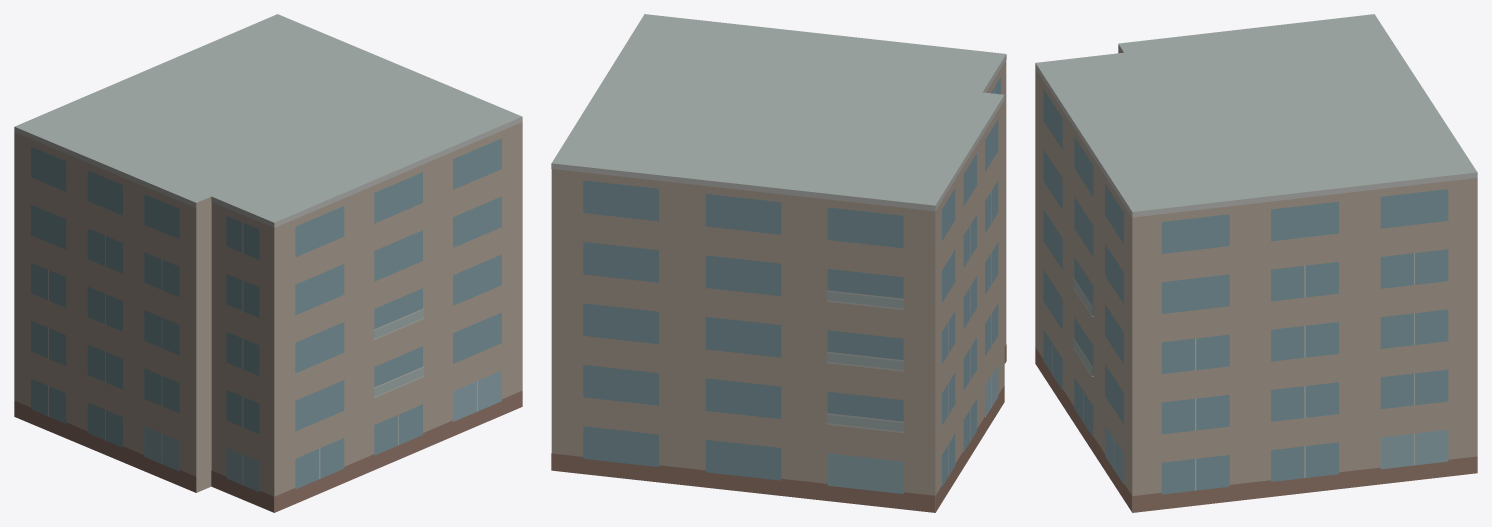
Rendered from survey-upis-32614941.glb.
3 renders of one model, left to right at view 1: azimuth 30°, elevation 25°; view 2: azimuth 150°, elevation 25°; view 3: azimuth 270°, elevation 25°, orthographic. The views are drawn at different scales.
Parts seen in each view (by area): view 1: survey-upis-32614941.tmp; view 2: survey-upis-32614941.tmp; view 3: survey-upis-32614941.tmp.
Part boxes in pixels (x1,y1,x2,y2): survey-upis-32614941.tmp: (14, 14, 522, 512); survey-upis-32614941.tmp: (551, 14, 1006, 512); survey-upis-32614941.tmp: (1035, 14, 1477, 512).
Size of the model in its own units: 18.93 by 13.4 by 17.86.
